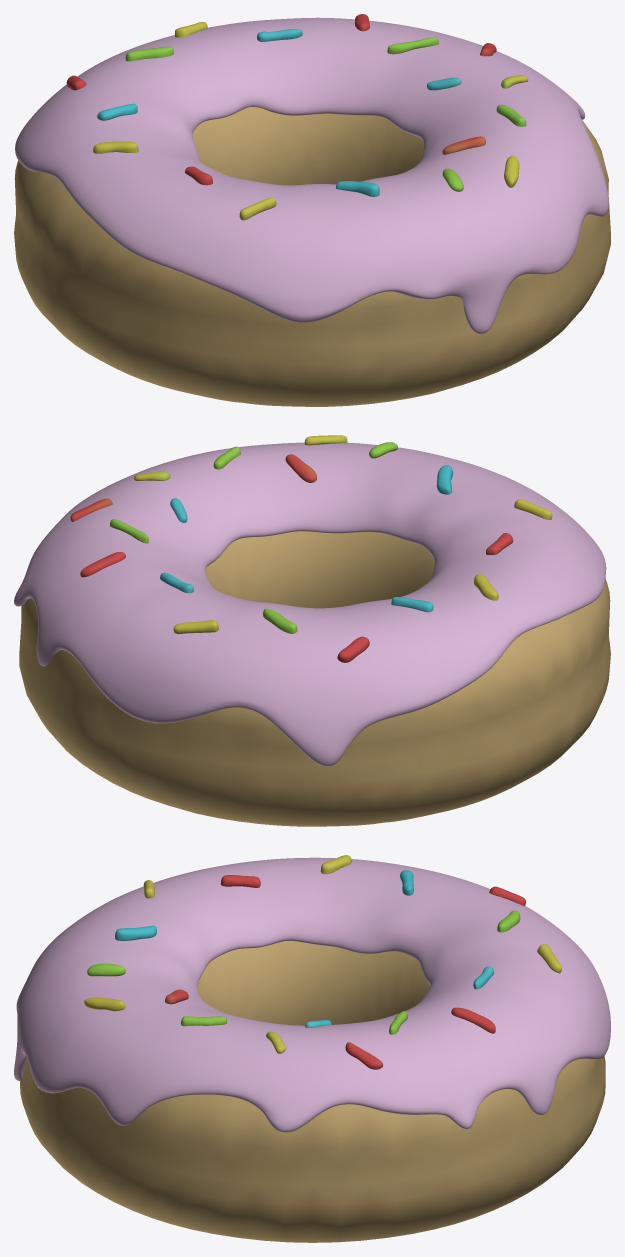
File: donut-transformed.glb
3 renders of one model, top to bottom at view 1: azimuth 30°, elevation 25°; view 2: azimuth 150°, elevation 25°; view 3: azimuth 270°, elevation 25°, orthographic.
Visible parts, largest first — view 1: Donut_obj; view 2: Donut_obj; view 3: Donut_obj.
Part boxes in pixels (<box>): Donut_obj: <box>14,14,610,406</box>; Donut_obj: <box>14,435,610,826</box>; Donut_obj: <box>14,855,610,1242</box>.
Bounding box in the file's own units: 1.93 × 0.7362 × 1.95.
